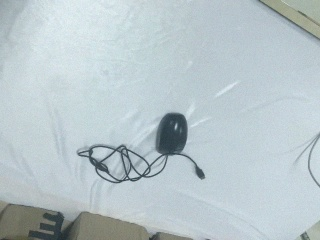box: (61, 210, 151, 240), (1, 202, 66, 240)
mouse: (155, 112, 189, 154)
